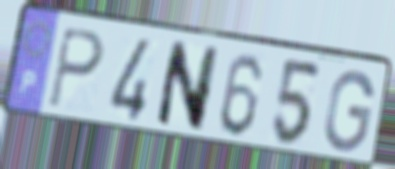4: (106, 36, 158, 125)
5: (268, 55, 325, 151)
6: (217, 50, 265, 141)
G: (321, 68, 377, 156)
N: (152, 38, 223, 135)
P: (47, 24, 106, 111)
